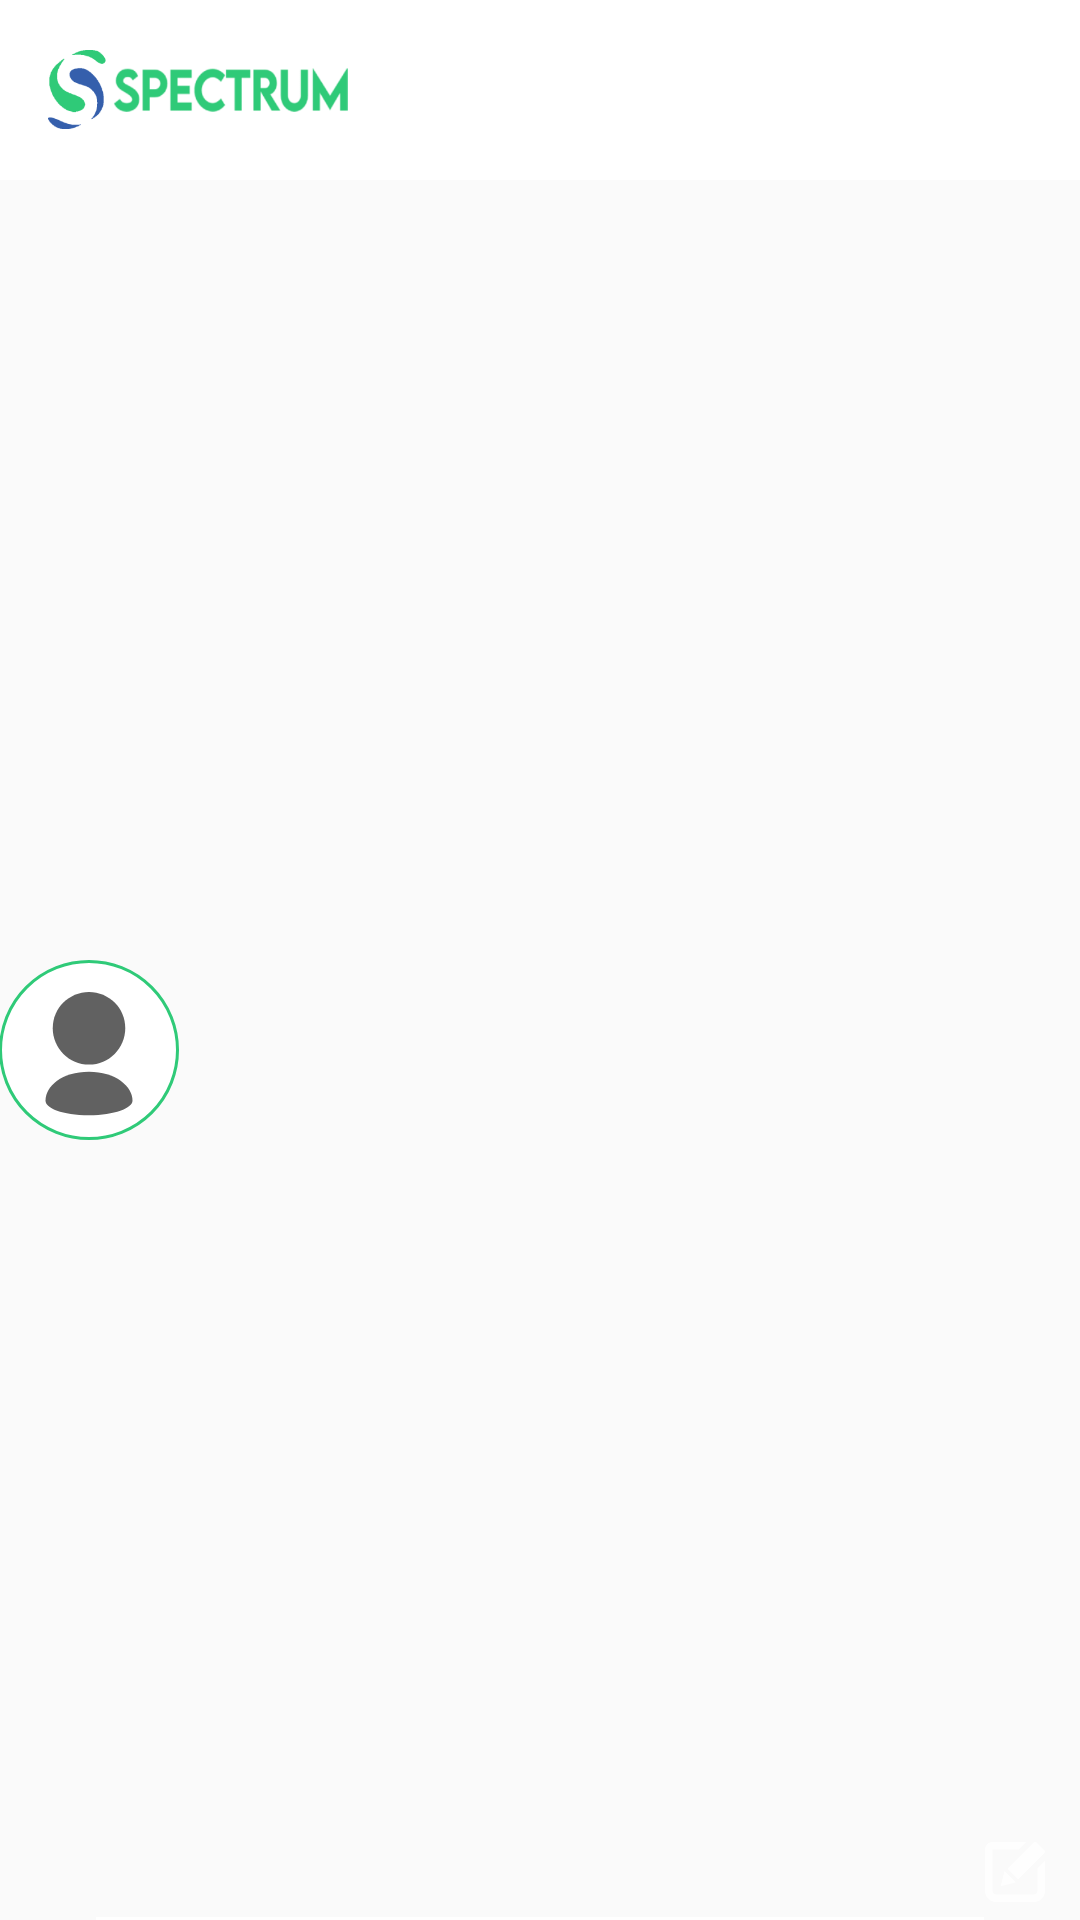

Screen size 1080px×1920px. Icon name, then its center in pixels as [x,y]:
if user: [89,1050]
